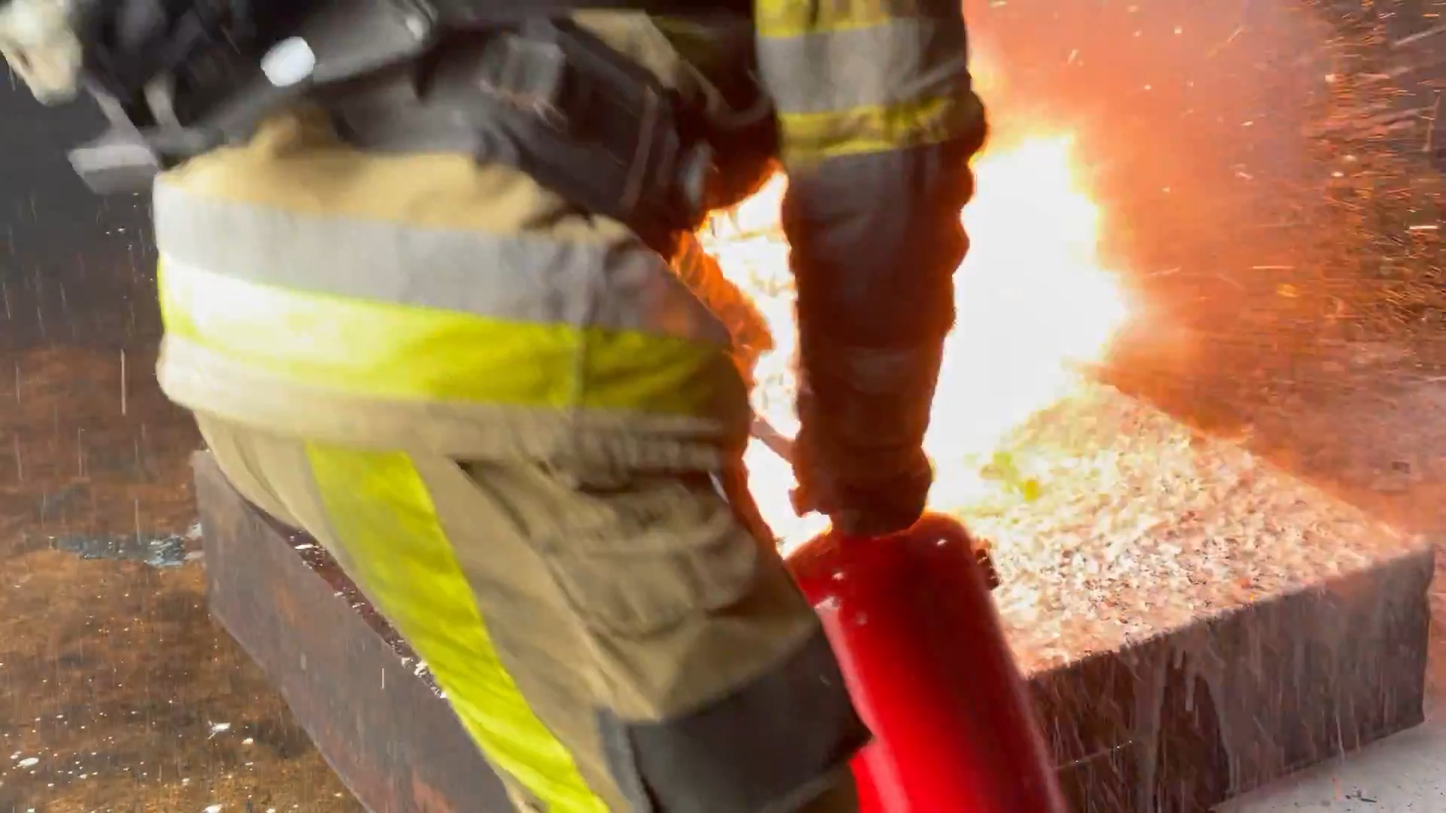fire: (932, 4, 1167, 520), (672, 159, 825, 560)
